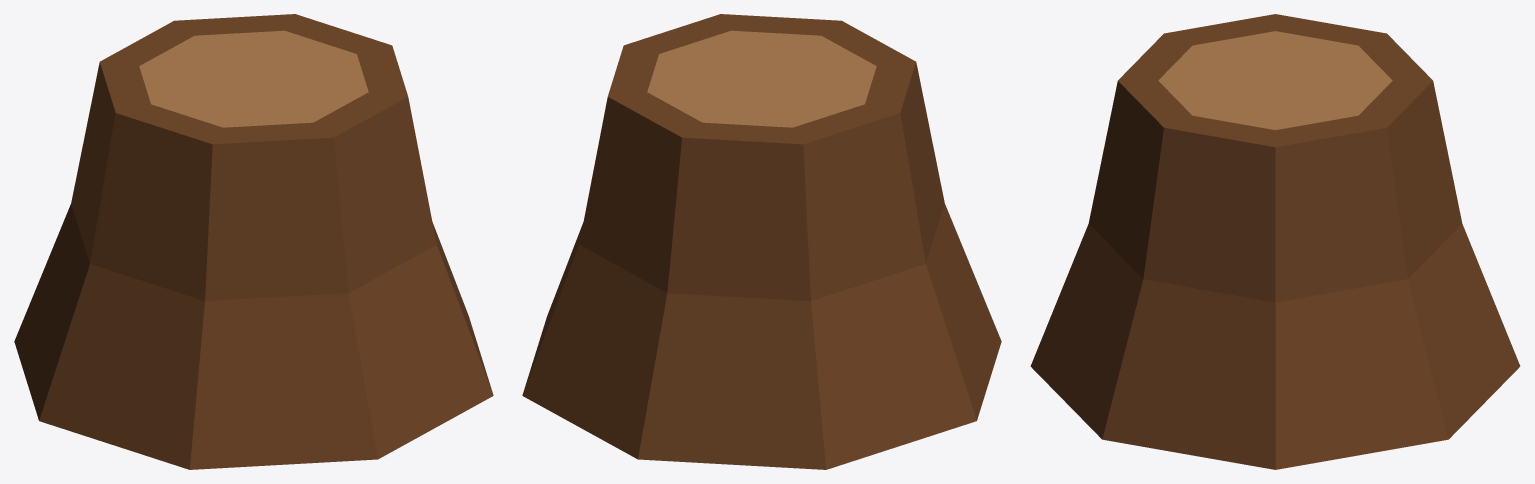
The model's file is Kutuk_2.fbx.
3 views of the same model, side by side, from view 1: azimuth 30°, elevation 25°; view 2: azimuth 150°, elevation 25°; view 3: azimuth 270°, elevation 25° (orthographic).
Parts seen in each view (by area): view 1: Cylinder; view 2: Cylinder; view 3: Cylinder.
Part boxes in pixels (x1,y1,x2,y2): Cylinder: [14, 14, 493, 469]; Cylinder: [522, 14, 1001, 469]; Cylinder: [1030, 14, 1520, 469].
Bounding box in the file's own units: 233 × 150 × 233.
